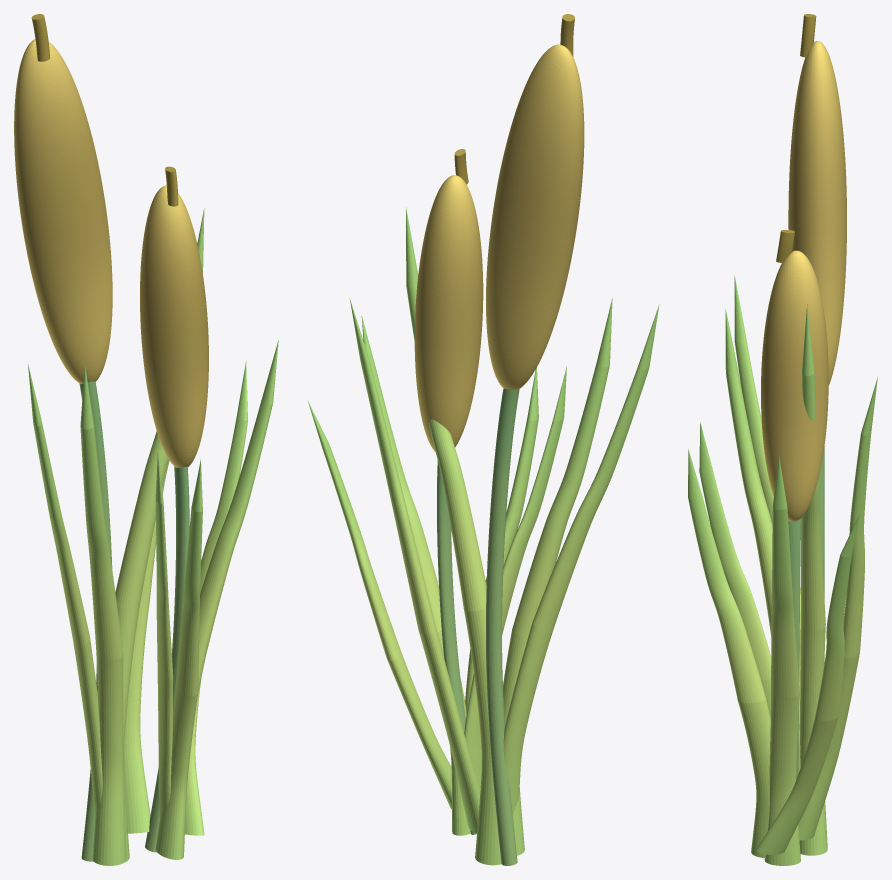
File: cattail.glb
3 renders of one model, left to right at view 1: azimuth 30°, elevation 25°; view 2: azimuth 150°, elevation 25°; view 3: azimuth 270°, elevation 25°, orthographic. The views are drawn at different scales.
Parts seen in each view (by area): view 1: Quad Sphere, Quad Sphere 1, Tube 1, Tube (×3), Tube 9, Tube 2, Tube 8, Tube 3, Tube 10, Tube 11, Tube 5; view 2: Quad Sphere, Tube (×2), Quad Sphere 1, Tube 2, Tube 3, Tube 1, Tube 11, Tube 10, Tube 8, Tube 5, Tube 9; view 3: Quad Sphere 1, Quad Sphere, Tube 8, Tube (×3), Tube 9, Tube 11, Tube 3, Tube 1, Tube 10, Tube 2, Tube 5, Tube 7.
Boxes of the visible parts, left/top/right/bottom form: Quad Sphere: left=14, top=39, right=112, bottom=383; Quad Sphere 1: left=140, top=185, right=208, bottom=467; Tube 1: left=80, top=363, right=126, bottom=865; Tube (×3): left=31, top=14, right=204, bottom=862; Tube 9: left=155, top=459, right=202, bottom=859; Tube 2: left=28, top=364, right=102, bottom=816; Tube 8: left=198, top=340, right=278, bottom=691; Tube 3: left=124, top=460, right=169, bottom=833; Tube 10: left=155, top=452, right=173, bottom=817; Tube 11: left=185, top=361, right=247, bottom=835; Tube 5: left=145, top=466, right=189, bottom=852; Quad Sphere: left=486, top=44, right=584, bottom=390; Tube (×2): left=406, top=207, right=519, bottom=865; Quad Sphere 1: left=414, top=175, right=483, bottom=451; Tube 2: left=503, top=304, right=659, bottom=813; Tube 3: left=349, top=298, right=480, bottom=833; Tube 1: left=503, top=298, right=612, bottom=855; Tube 11: left=307, top=400, right=451, bottom=809; Tube 10: left=464, top=366, right=566, bottom=788; Tube 8: left=361, top=315, right=470, bottom=835; Tube 5: left=437, top=461, right=476, bottom=834; Tube 9: left=465, top=367, right=538, bottom=789; Quad Sphere 1: left=761, top=250, right=828, bottom=521; Quad Sphere: left=788, top=41, right=846, bottom=385; Tube 8: left=764, top=456, right=800, bottom=865; Tube (×3): left=799, top=14, right=827, bottom=855; Tube 9: left=688, top=449, right=770, bottom=858; Tube 11: left=756, top=514, right=859, bottom=854; Tube 3: left=798, top=377, right=877, bottom=840; Tube 1: left=725, top=309, right=800, bottom=773; Tube 10: left=699, top=422, right=771, bottom=716; Tube 2: left=734, top=275, right=800, bottom=663; Tube 5: left=788, top=518, right=800, bottom=779; Tube 7: left=776, top=229, right=794, bottom=263.
Bounding box in the file's own units: 0.3924 × 1.13 × 0.2431.
